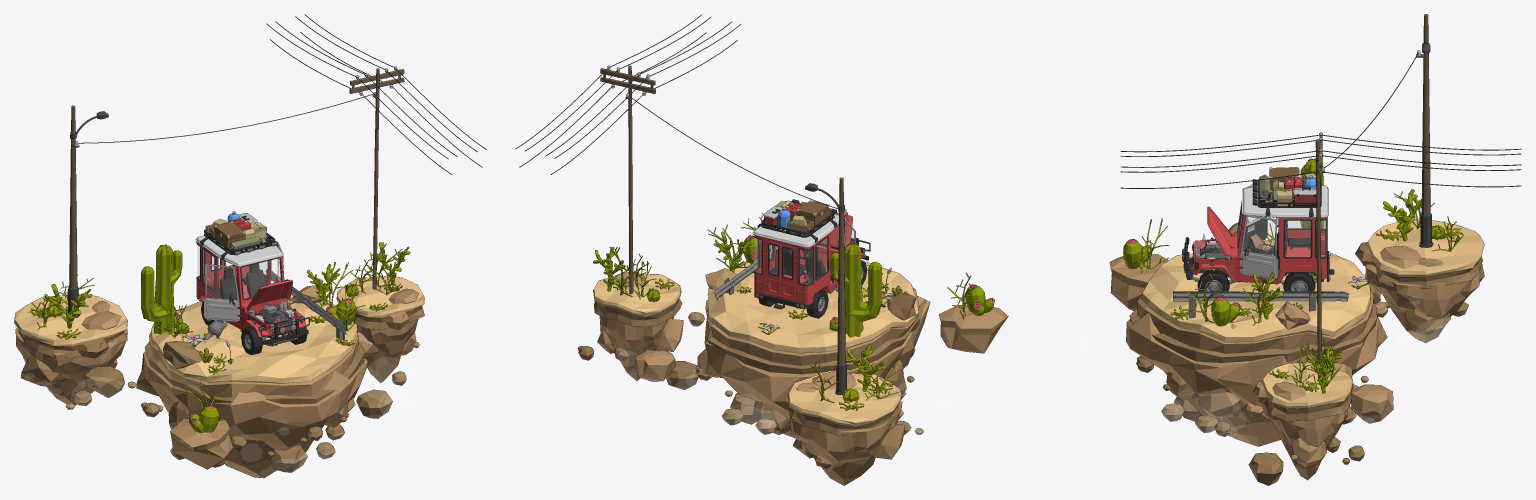
File: road-transformed.glb
The picture shows the model from 3 angles, left to right: view 1: azimuth 30°, elevation 25°; view 2: azimuth 150°, elevation 25°; view 3: azimuth 270°, elevation 25°; orthographic projection. The views are drawn at different scales.
Parts seen in each view (by area): view 1: terrain_terrain_0, body_body_0, body001outline_body001outline_0, sky_sky_0, glass_glass_0; view 2: terrain_terrain_0, body001outline_body001outline_0, body_body_0, sky_sky_0, glass_glass_0; view 3: terrain_terrain_0, body_body_0, body001outline_body001outline_0, sky_sky_0, glass_glass_0.
Boxes of the visible parts, x1=… form: terrain_terrain_0: x1=14, y1=14, x2=486, y2=477; body_body_0: x1=195, y1=211, x2=309, y2=354; body001outline_body001outline_0: x1=14, y1=14, x2=486, y2=478; sky_sky_0: x1=54, y1=300, x2=425, y2=478; glass_glass_0: x1=197, y1=245, x2=280, y2=299; terrain_terrain_0: x1=516, y1=15, x2=1008, y2=485; body001outline_body001outline_0: x1=515, y1=14, x2=1008, y2=485; body_body_0: x1=752, y1=199, x2=870, y2=318; sky_sky_0: x1=618, y1=296, x2=985, y2=441; glass_glass_0: x1=755, y1=223, x2=853, y2=284; terrain_terrain_0: x1=1110, y1=14, x2=1521, y2=485; body_body_0: x1=1182, y1=167, x2=1333, y2=291; body001outline_body001outline_0: x1=1109, y1=14, x2=1521, y2=485; sky_sky_0: x1=1046, y1=229, x2=1462, y2=439; glass_glass_0: x1=1239, y1=213, x2=1326, y2=256.
Bounding box in the file's own units: 13.24 × 12.19 × 13.79.
5 materials, 2 textured.
